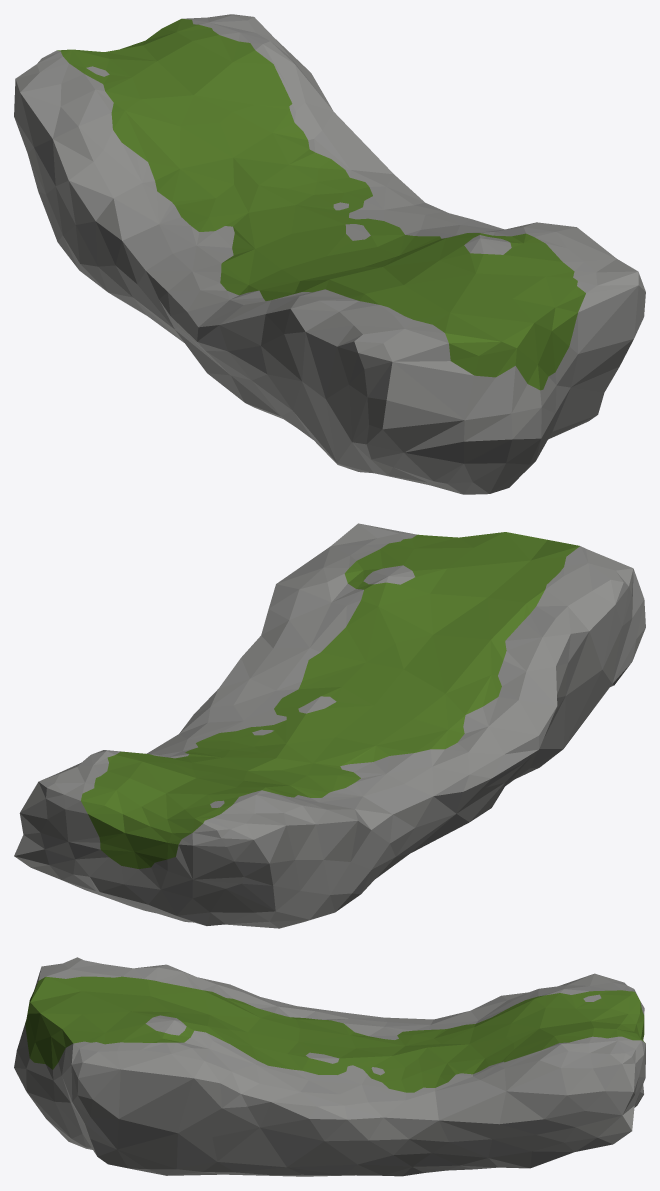
The model's file is Cavern_FloorGrass_Narrow_Dip-01.fbx.
The picture shows the model from 3 angles, top to bottom: view 1: azimuth 30°, elevation 25°; view 2: azimuth 150°, elevation 25°; view 3: azimuth 270°, elevation 25°; orthographic projection. The views are drawn at different scales.
Visible parts, largest first — view 1: Cavern_FloorGrass_Narrow_Dip-01; view 2: Cavern_FloorGrass_Narrow_Dip-01; view 3: Cavern_FloorGrass_Narrow_Dip-01.
Part boxes in pixels (left/top/right/bottom): Cavern_FloorGrass_Narrow_Dip-01: left=14, top=14, right=645, bottom=494; Cavern_FloorGrass_Narrow_Dip-01: left=14, top=523, right=645, bottom=928; Cavern_FloorGrass_Narrow_Dip-01: left=14, top=957, right=645, bottom=1176.
Bounding box in the file's own units: 857 × 477 × 1912.
1 material, 1 textured.
